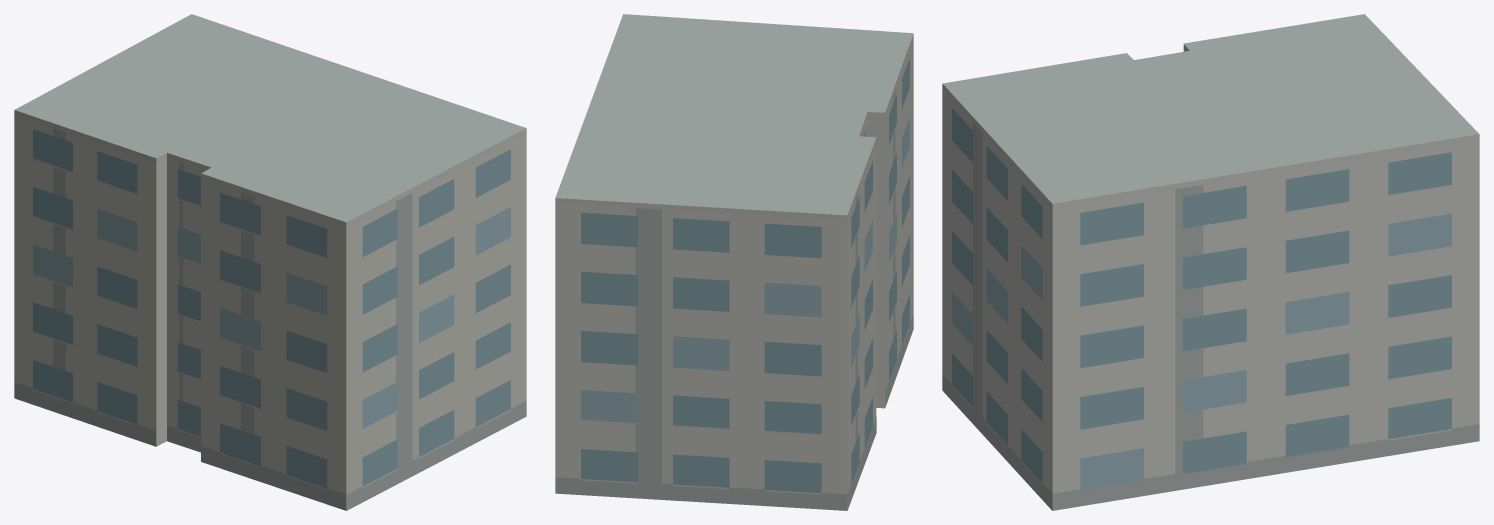
Rendered from survey-upis-32840833.glb.
3 views of the same model, side by side, from view 1: azimuth 30°, elevation 25°; view 2: azimuth 150°, elevation 25°; view 3: azimuth 270°, elevation 25° (orthographic). The views are drawn at different scales.
Parts seen in each view (by area): view 1: survey-upis-32840833.tmp; view 2: survey-upis-32840833.tmp; view 3: survey-upis-32840833.tmp.
Part boxes in pixels (box(x1,y1,x2,y2)): survey-upis-32840833.tmp: box(14, 14, 526, 510); survey-upis-32840833.tmp: box(555, 14, 913, 510); survey-upis-32840833.tmp: box(942, 14, 1479, 510).
Bounding box in the file's own units: 18.01 × 13.57 × 21.52.
